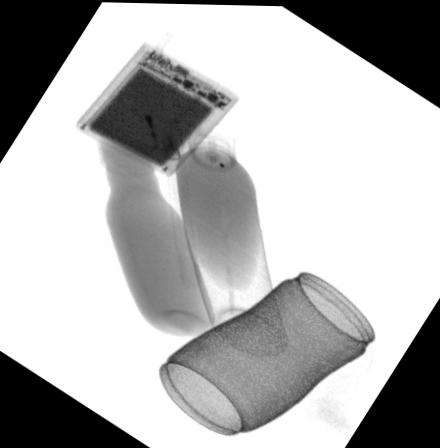Lighter: (132, 70, 181, 158)
Powerbank: (74, 40, 238, 175)
Sprayer: (173, 119, 290, 356)
